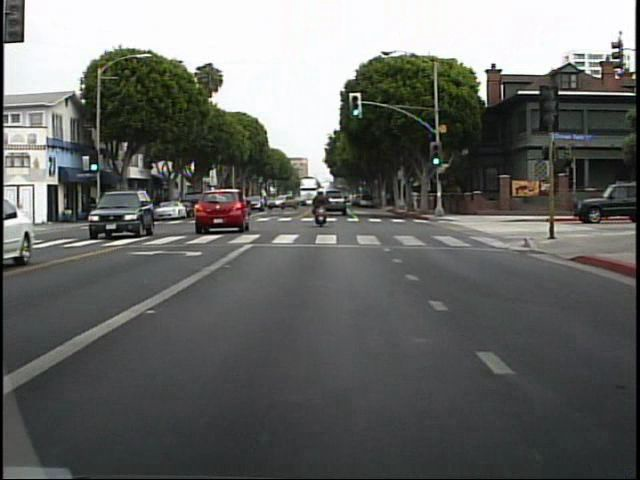person: (311, 183, 337, 230)
